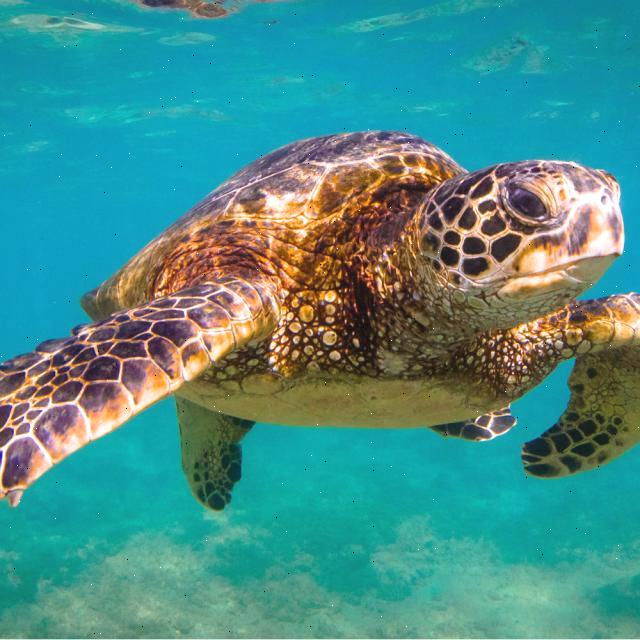tortoise: (0, 124, 640, 516)
